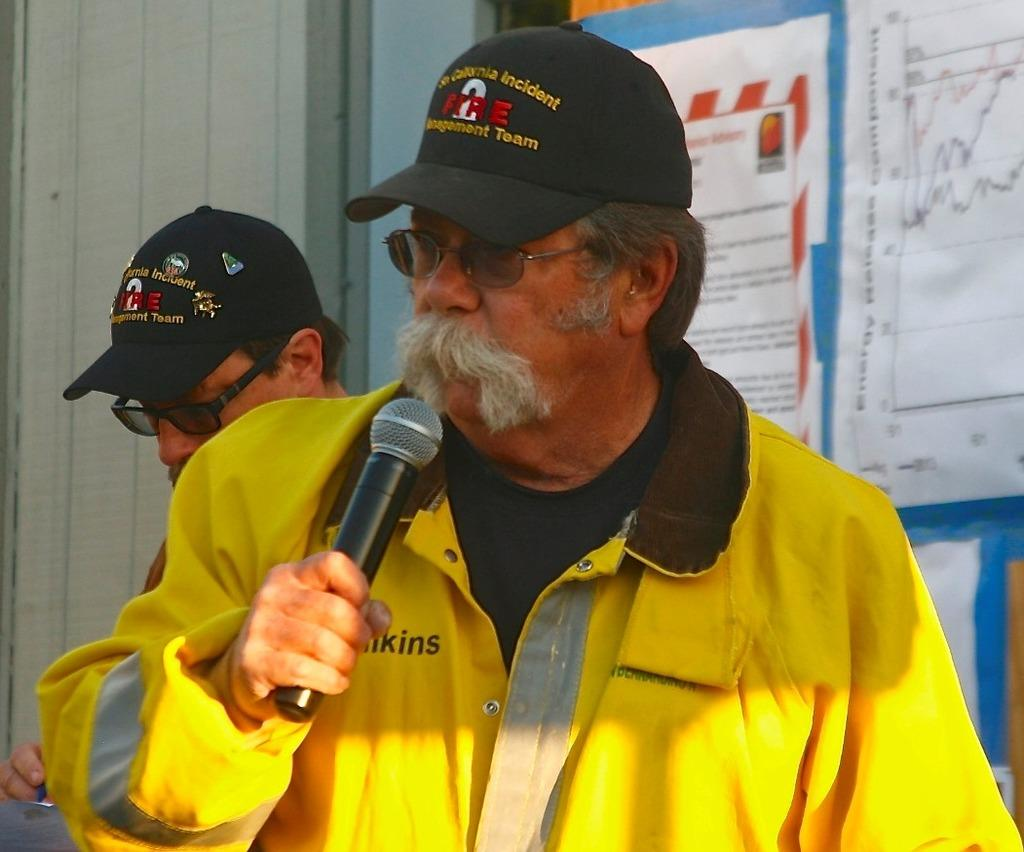Hat: (344, 20, 692, 253), (63, 202, 322, 400)
